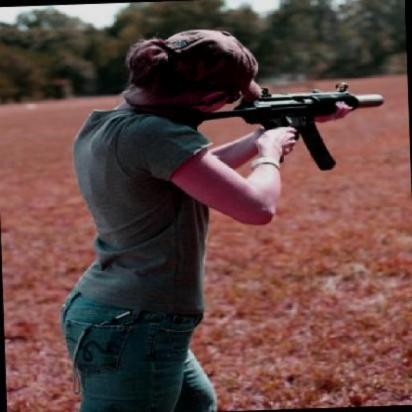Gun: (182, 84, 384, 175)
